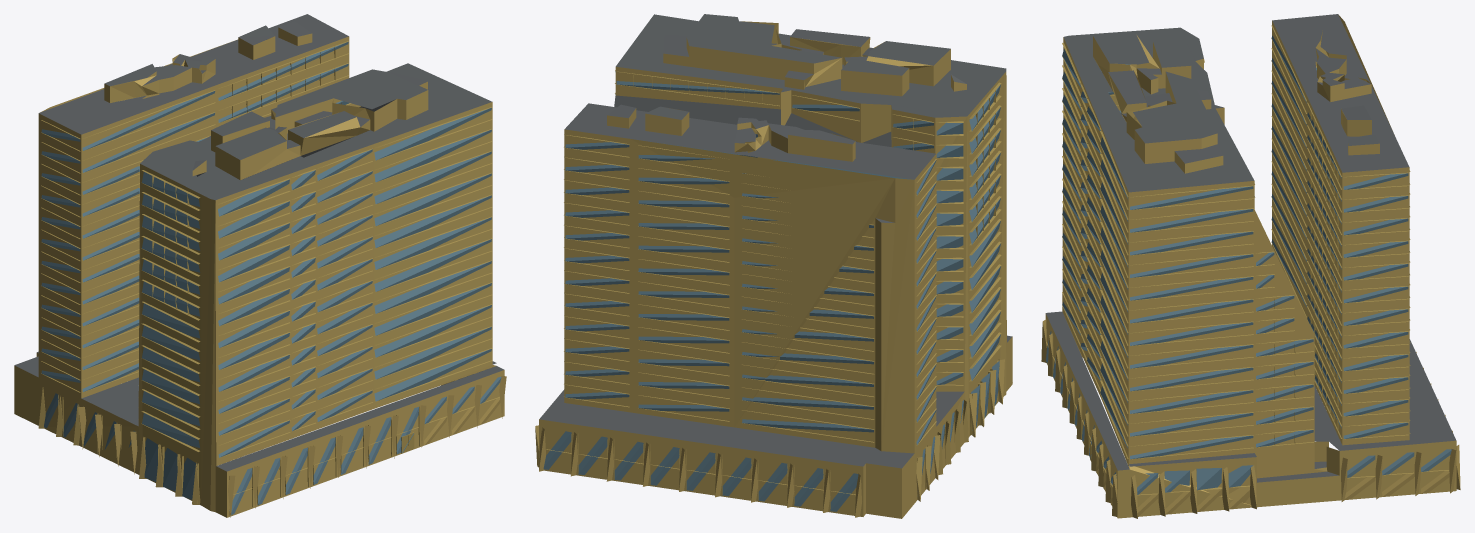
File: motorkade-1.lod1.glb
3 renders of one model, left to right at view 1: azimuth 30°, elevation 25°; view 2: azimuth 150°, elevation 25°; view 3: azimuth 270°, elevation 25°, orthographic. The views are drawn at different scales.
Parts seen in each view (by area): view 1: motorkade-1; view 2: motorkade-1; view 3: motorkade-1.
Part boxes in pixels (box(x1,y1,x2,y2)): motorkade-1: box(14, 14, 506, 517); motorkade-1: box(535, 14, 1012, 518); motorkade-1: box(1041, 14, 1460, 518).
Size of the model in its own units: 56.16 by 48.49 by 53.65.
